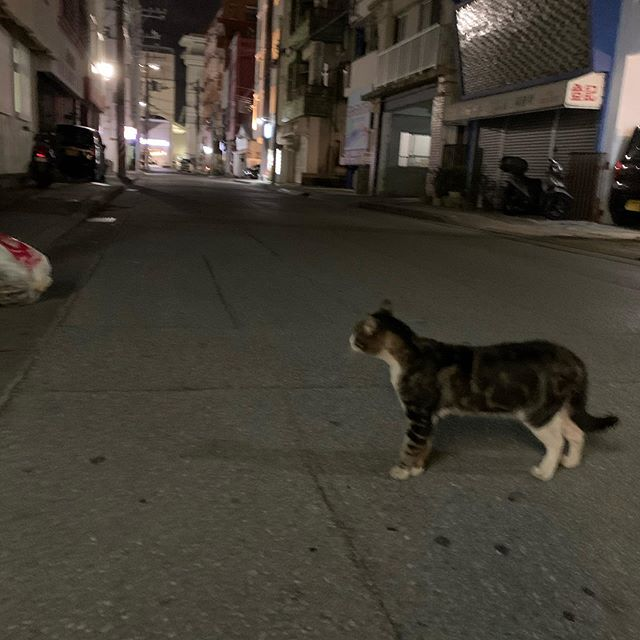animal: (333, 314, 603, 490)
building: (240, 1, 468, 202), (428, 1, 640, 193), (1, 1, 157, 177), (142, 17, 239, 166)
motorcycle: (502, 163, 584, 227), (24, 129, 74, 186)
street: (1, 201, 640, 640)
